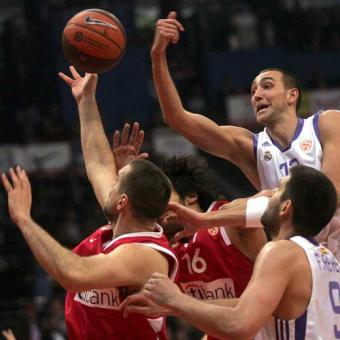basketball: (62, 9, 125, 72)
